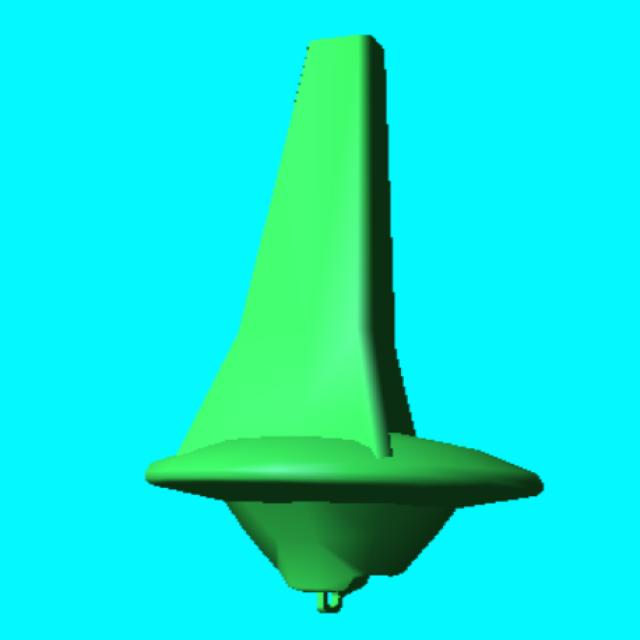GreenBuoy: (147, 35, 543, 612)
